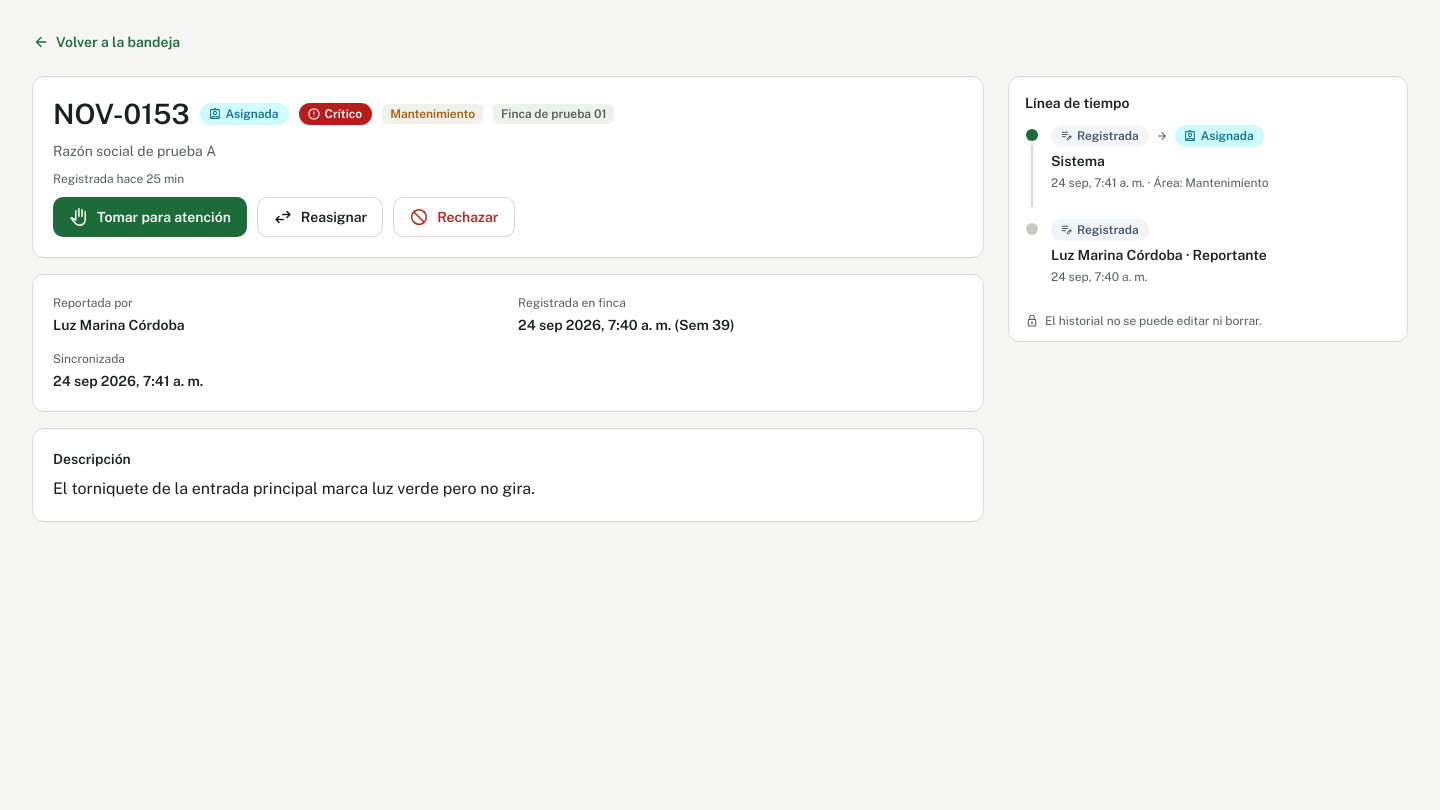
Scenario: Acciones en el detalle (RF-18 / CU-18 5 y RF-10 / CU-10) › RF-10 / CU-10: al tomarla, el detalle se recarga sin dejar de mostrarse y queda en atención
What coordinates should you click on to do the following:
click the button "Tomar para atención"
I would click on:
 (150, 217)
Its box is [53,197,247,237].
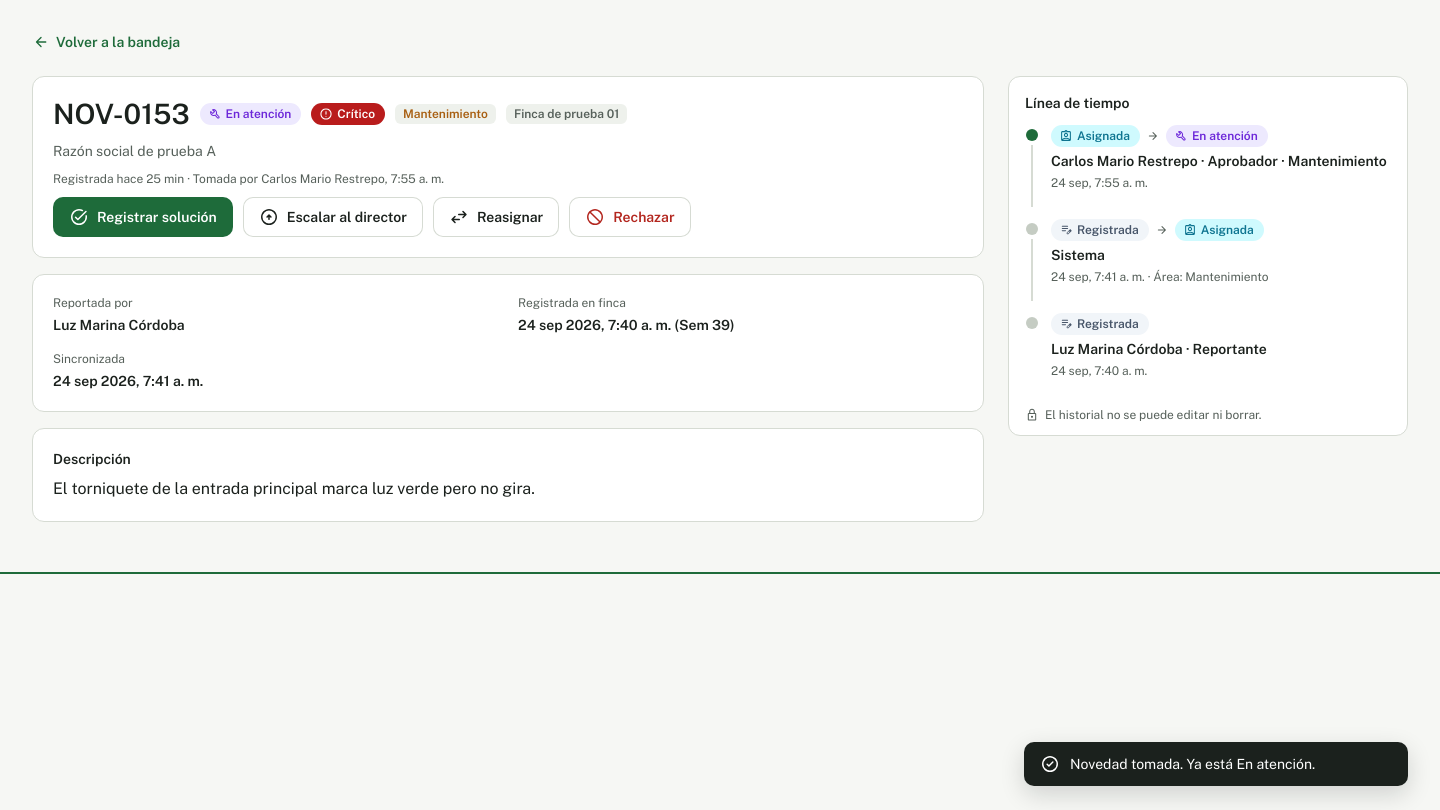
Now the text "Novedad tomada. Ya está En atención." is shown, box [1070,756,1315,772]
Now the text "Registrada hace 25 min · Tomada por Carlos Mario Restrepo, 7:55 a. m." is shown, box [53,172,444,186]
Now the button "Tomar para atención" is gone
